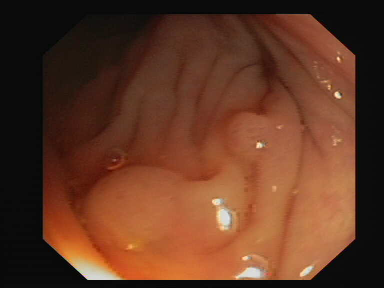polyp: (84, 142, 211, 252), (205, 106, 289, 173)
